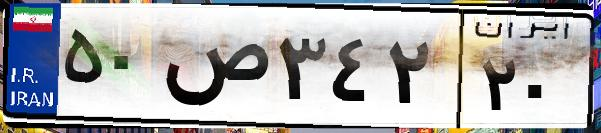0: (525, 38, 570, 115), (110, 28, 158, 98)
2: (385, 28, 445, 110), (475, 38, 525, 113)
3: (270, 28, 330, 110)
4: (330, 28, 385, 110)
5: (57, 26, 110, 100)
ص: (158, 20, 270, 120)
